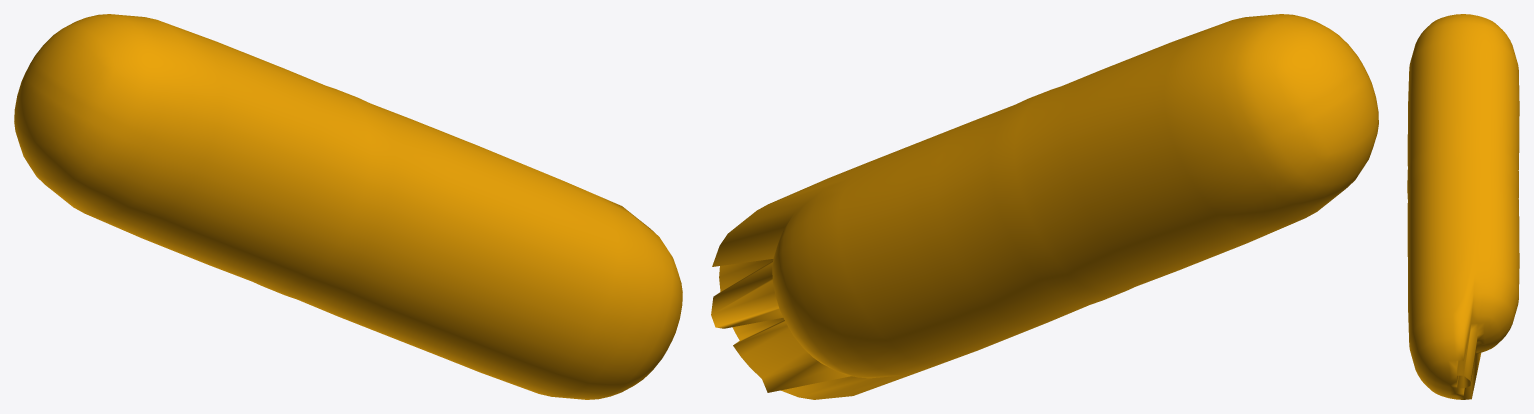
3 renders of one model, left to right at view 1: azimuth 30°, elevation 25°; view 2: azimuth 150°, elevation 25°; view 3: azimuth 270°, elevation 25°, orthographic. The views are drawn at different scales.
Parts seen in each view (by area): view 1: lv_2_7; view 2: lv_2_7; view 3: lv_2_7.
Part boxes in pixels (left/top/right/bottom): lv_2_7: left=14, top=14, right=682, bottom=399; lv_2_7: left=711, top=14, right=1378, bottom=399; lv_2_7: left=1407, top=14, right=1519, bottom=399.
Bounding box in the file's own units: 40.44 × 29.03 × 11.55.
